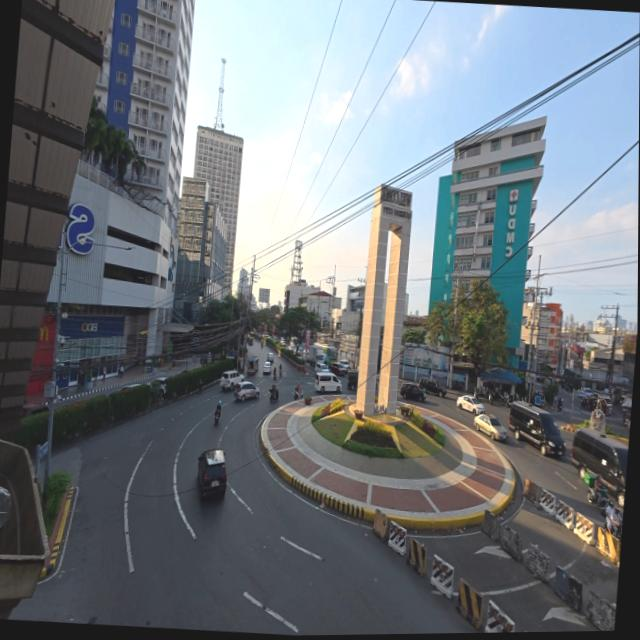Jeepneys: (246, 356, 257, 375)
car: (196, 449, 226, 499), (473, 414, 507, 441), (456, 396, 483, 415), (233, 381, 258, 400), (219, 371, 242, 391), (418, 379, 445, 396), (400, 384, 425, 401), (149, 377, 165, 395), (330, 362, 345, 375), (574, 387, 593, 397), (118, 383, 140, 391), (337, 360, 348, 374), (314, 363, 329, 372), (262, 361, 270, 375), (581, 387, 593, 396), (338, 359, 348, 368), (265, 352, 273, 363), (287, 345, 294, 353), (247, 338, 252, 345), (627, 421, 630, 429)
motorcycle: (586, 487, 608, 510), (610, 523, 621, 542), (472, 386, 486, 400), (213, 410, 220, 425), (293, 389, 302, 400), (556, 398, 563, 412), (269, 391, 278, 401), (272, 369, 275, 381), (278, 368, 281, 377)
trucks: (306, 345, 323, 365)
vans: (571, 429, 628, 508), (508, 401, 565, 455), (314, 371, 340, 392), (346, 370, 357, 390)
